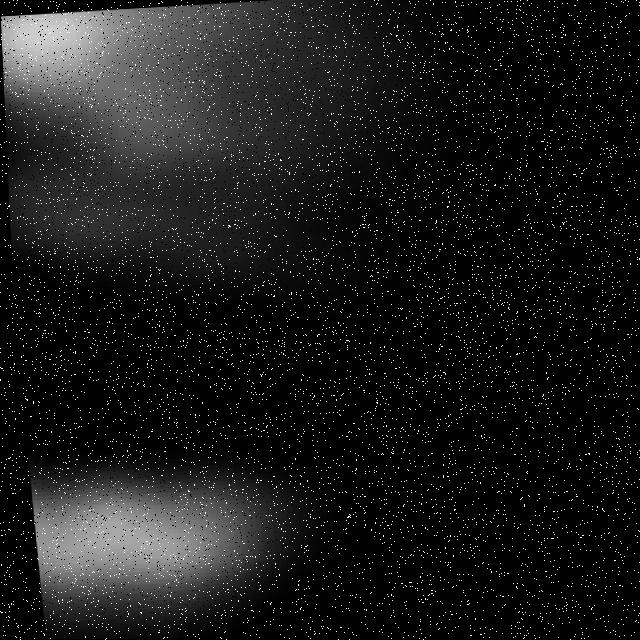person: (1, 1, 419, 322), (21, 415, 337, 632)
